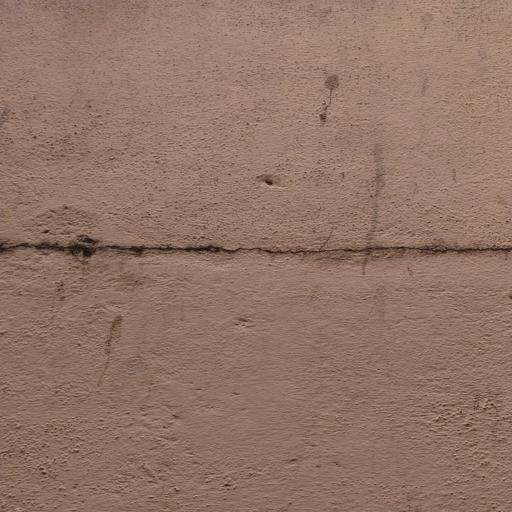minor_crack: (0, 182, 512, 287)
